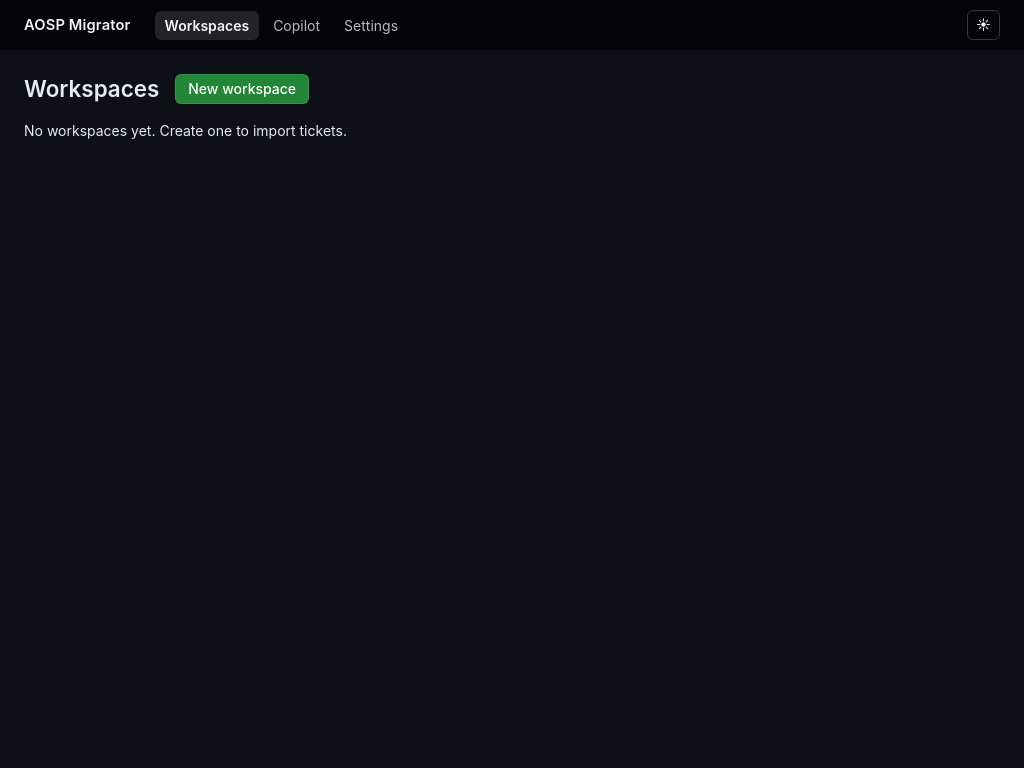
Test case: day/night mode › follows the system preference until toggled, then remembers the choice
What coordinates should you click on to do the following:
click the button named "Switch to day mode"
I would click on:
 (984, 25)
Its box is 967,10 -> 1000,40.
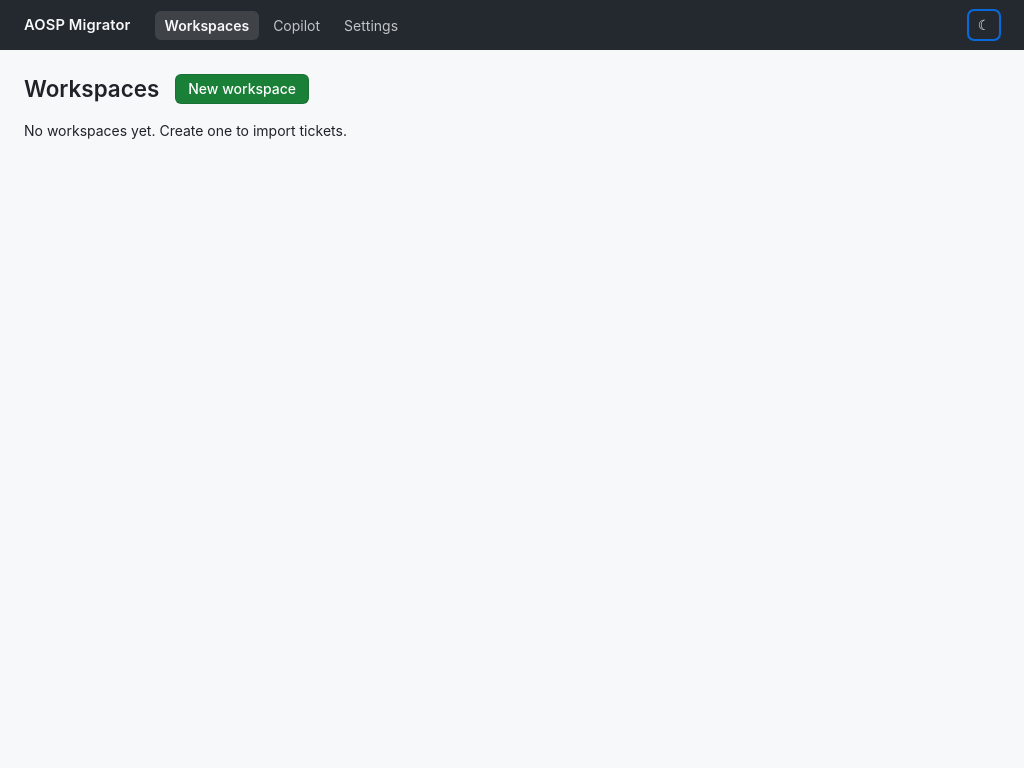
Result: the button named "Switch to night mode" is shown at 968,10 -> 1000,40
